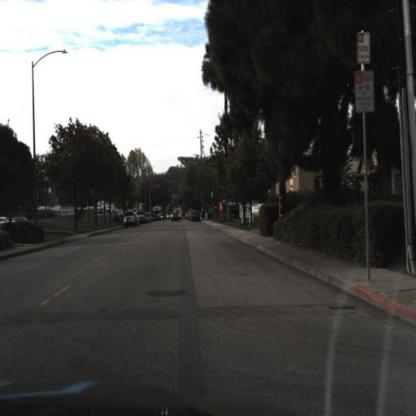car: (242, 194, 270, 228), (121, 206, 138, 230), (14, 209, 35, 228), (189, 206, 202, 226), (169, 206, 182, 224)
